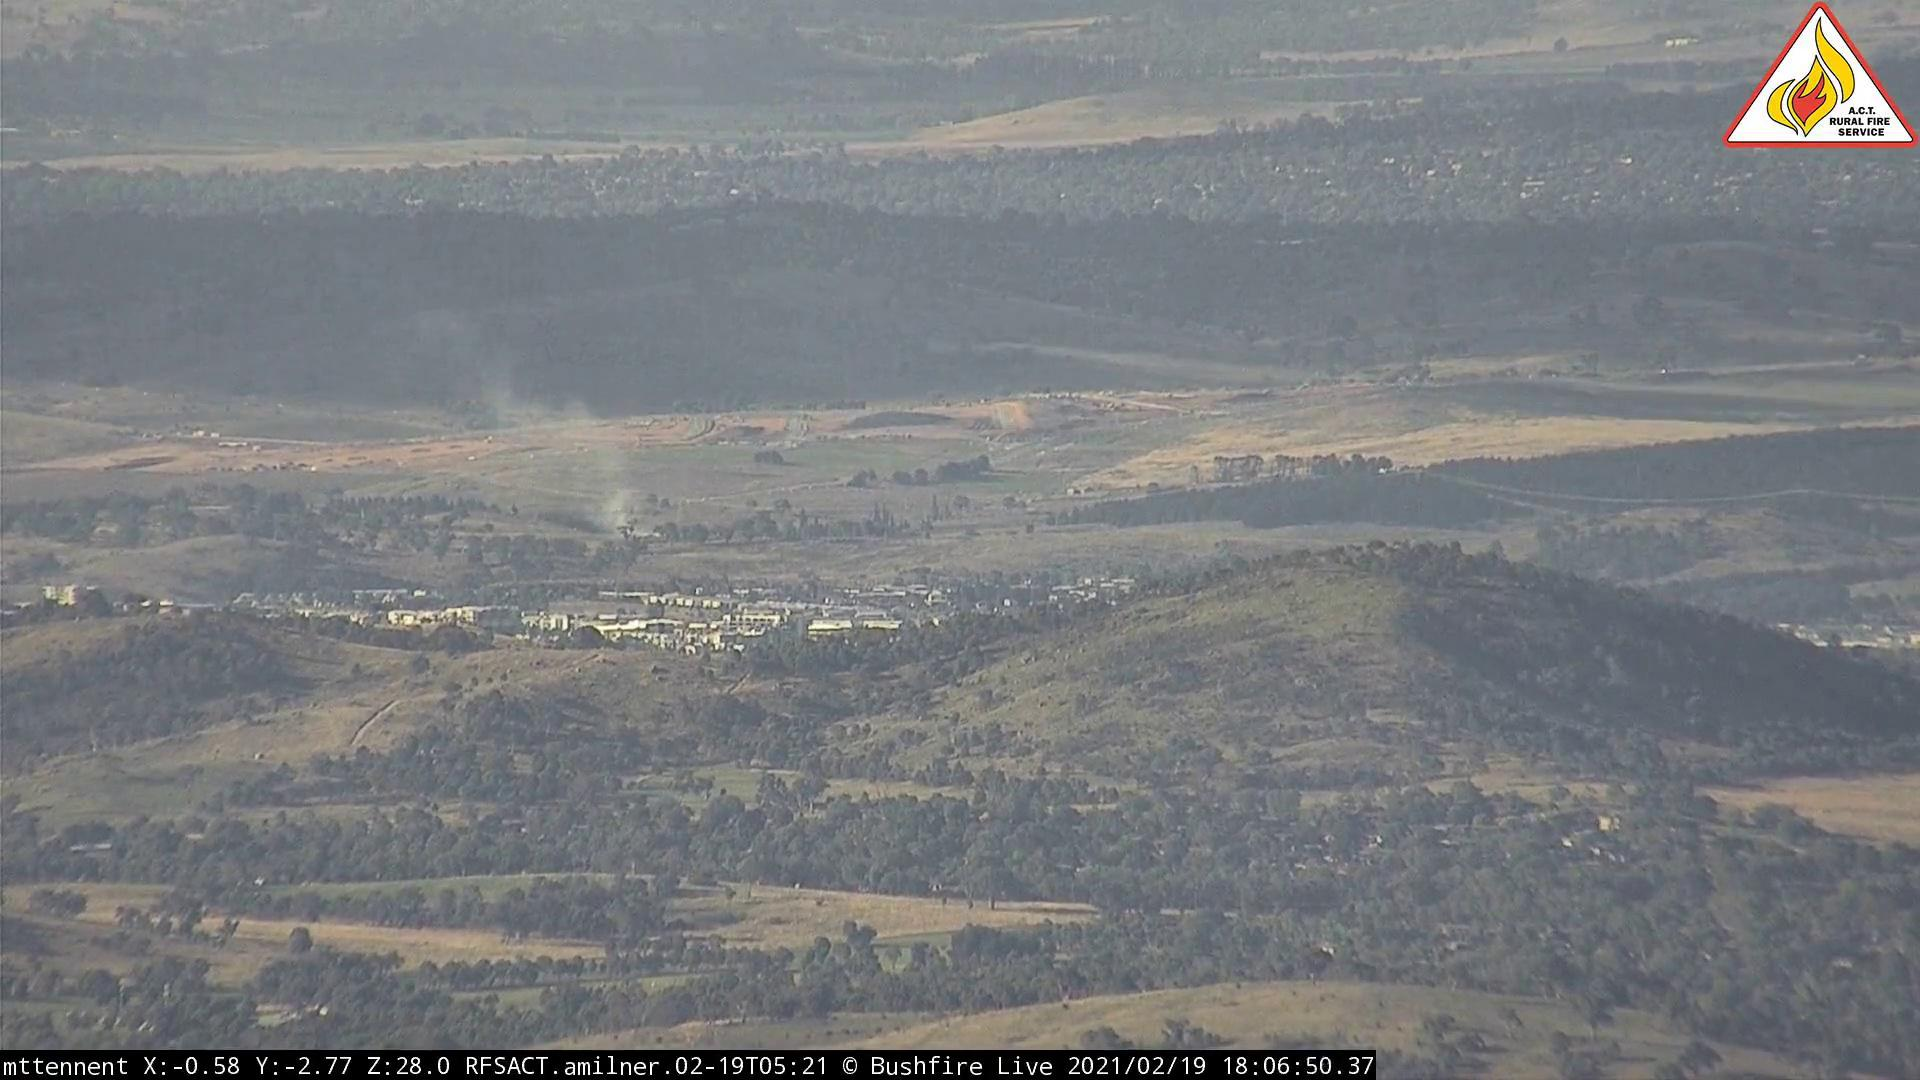Smoke: (560, 460, 665, 546)
